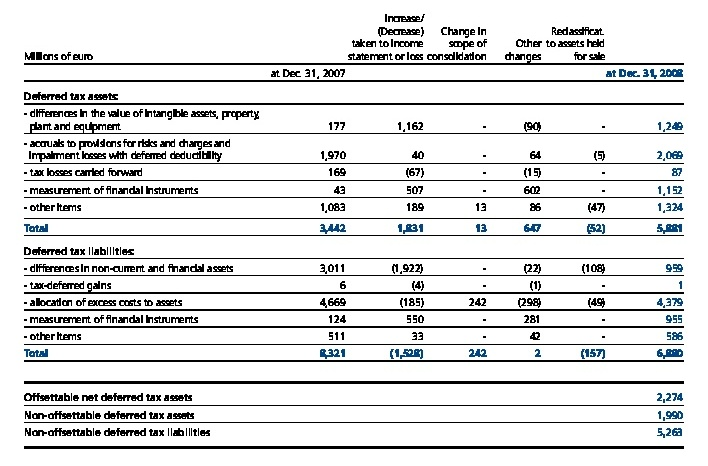table: (0, 0, 708, 466)
